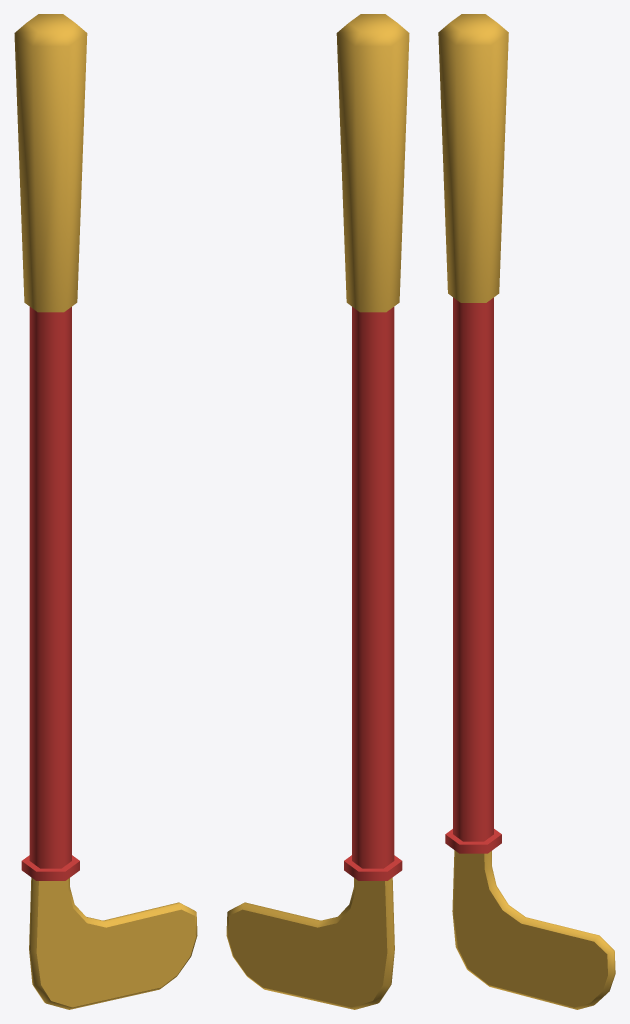
The model's file is GolfClub_01.fbx.
3 views of the same model, side by side, from view 1: azimuth 30°, elevation 25°; view 2: azimuth 150°, elevation 25°; view 3: azimuth 330°, elevation 25° (orthographic). The views are drawn at different scales.
Parts seen in each view (by area): view 1: GolfClub_01; view 2: GolfClub_01; view 3: GolfClub_01.
Part boxes in pixels (x1=…): GolfClub_01: x1=14, y1=14, x2=197, y2=1009; GolfClub_01: x1=226, y1=14, x2=409, y2=1009; GolfClub_01: x1=438, y1=14, x2=615, y2=1009.
Bounding box in the file's own units: 0.1428 × 0.7827 × 0.052.
